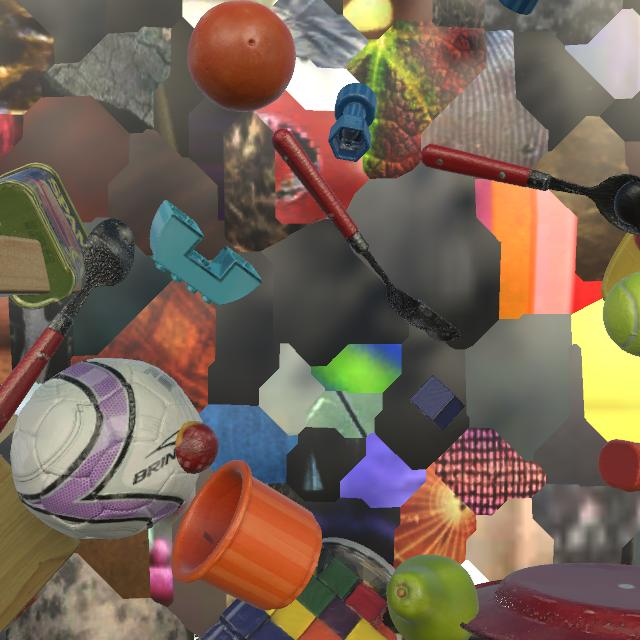ycb_010_potted_meat_can: (0, 163, 89, 310)
ycb_016_pear: (386, 554, 479, 640)
ycb_017_orange: (187, 0, 296, 112)
